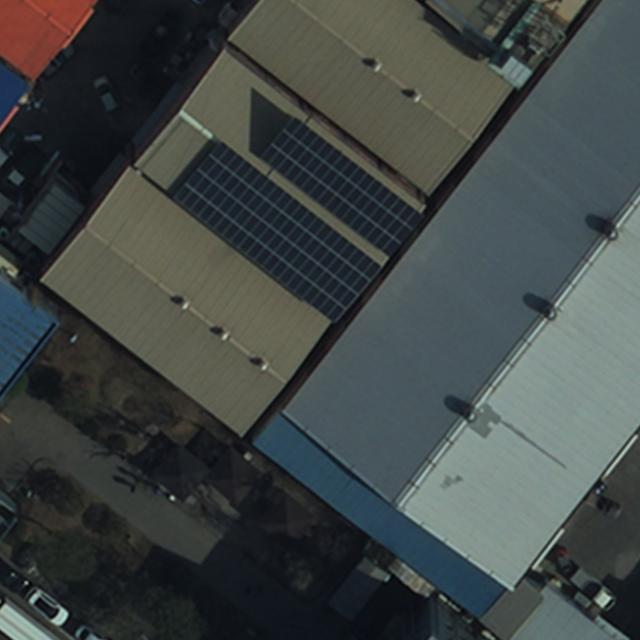panel: (165, 137, 386, 330), (254, 111, 428, 265)
